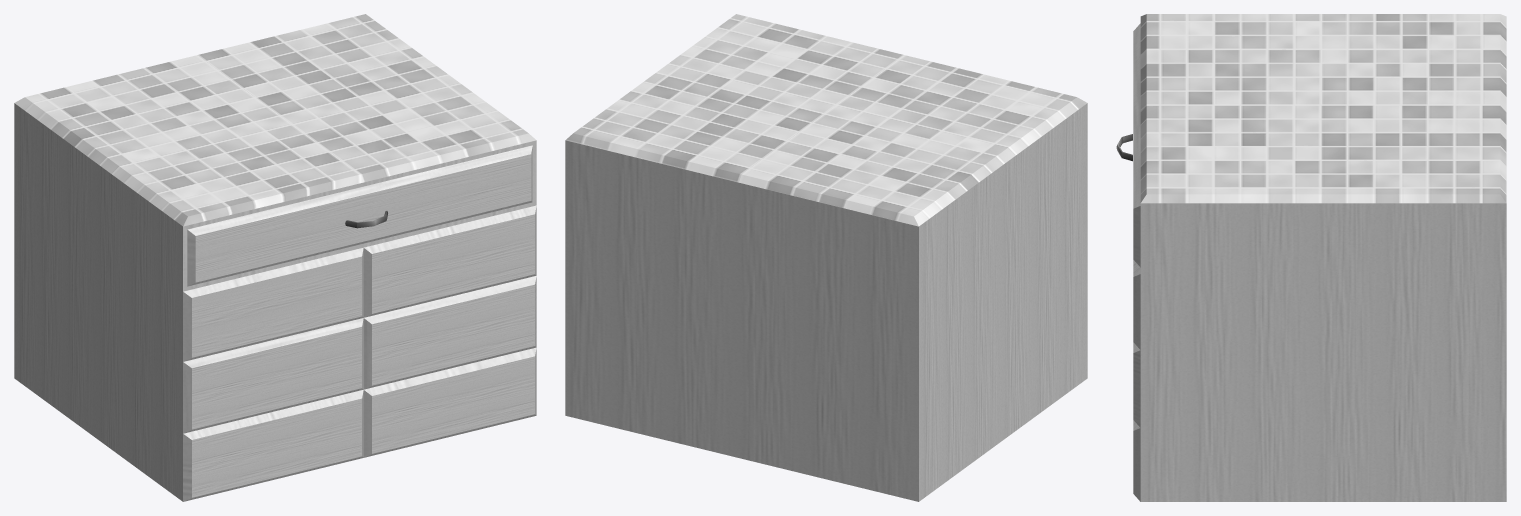
Rendered from Kitchen_Counter_B_2_2.FBX.
The picture shows the model from 3 angles, left to right: view 1: azimuth 30°, elevation 25°; view 2: azimuth 150°, elevation 25°; view 3: azimuth 270°, elevation 25°; orthographic projection. The views are drawn at different scales.
Parts seen in each view (by area): view 1: Counter_A_2; view 2: Counter_A_2; view 3: Counter_A_2.
Boxes of the visible parts, x1,y1,x2,y2 form: Counter_A_2: (14,14,536,501); Counter_A_2: (565,14,1087,501); Counter_A_2: (1116,14,1506,501).
Bounding box in the file's own units: 181 × 138 × 160.
